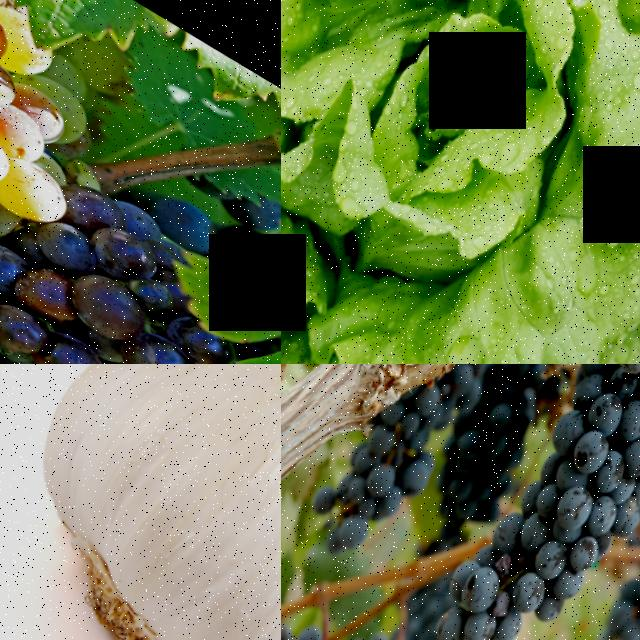garlic: (0, 364, 281, 640)
grapes: (398, 364, 640, 640), (0, 146, 281, 364), (0, 0, 141, 358), (293, 382, 453, 576)
lettuce: (281, 0, 640, 364)
